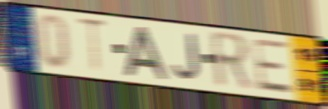0: (35, 12, 74, 72)
A: (124, 25, 170, 82)
E: (250, 37, 296, 96)
J: (171, 32, 202, 82)
R: (208, 29, 255, 93)
T: (75, 15, 110, 77)
